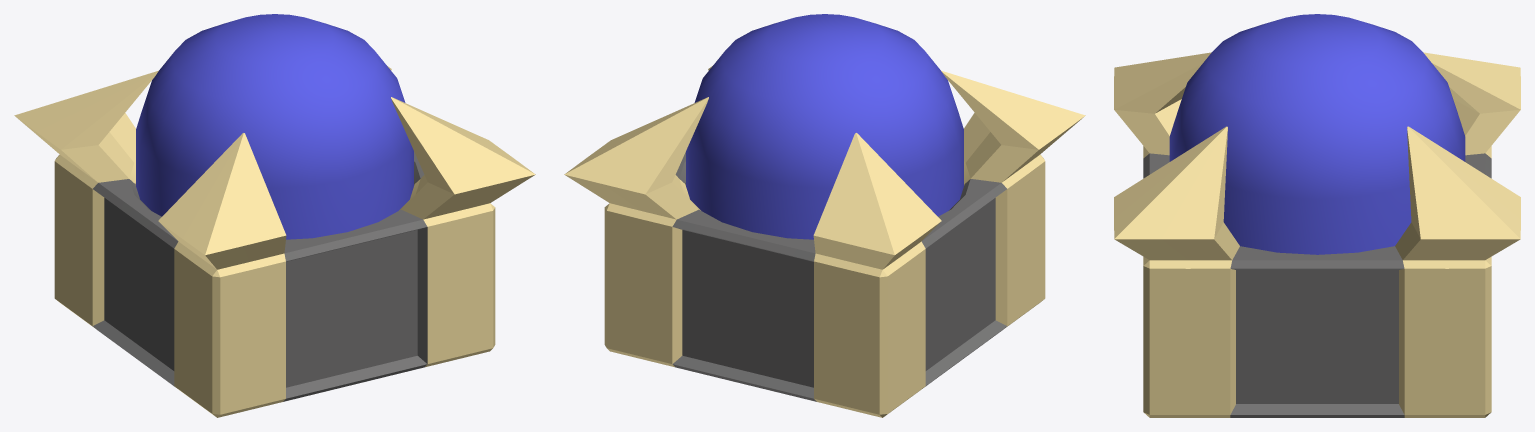
Rendered from switch_goal.fbx.
3 renders of one model, left to right at view 1: azimuth 30°, elevation 25°; view 2: azimuth 150°, elevation 25°; view 3: azimuth 270°, elevation 25°, orthographic. The views are drawn at different scales.
Parts seen in each view (by area): view 1: botan3, botan4; view 2: botan3, botan4; view 3: botan3, botan4.
Part boxes in pixels (<box>): botan3: <box>14,66,535,417</box>; botan4: <box>136,14,413,239</box>; botan3: <box>564,66,1085,417</box>; botan4: <box>686,14,963,239</box>; botan3: <box>1114,52,1520,417</box>; botan4: <box>1169,14,1465,254</box>.
Size of the model in its own units: 4.68 by 3.96 by 4.68.
